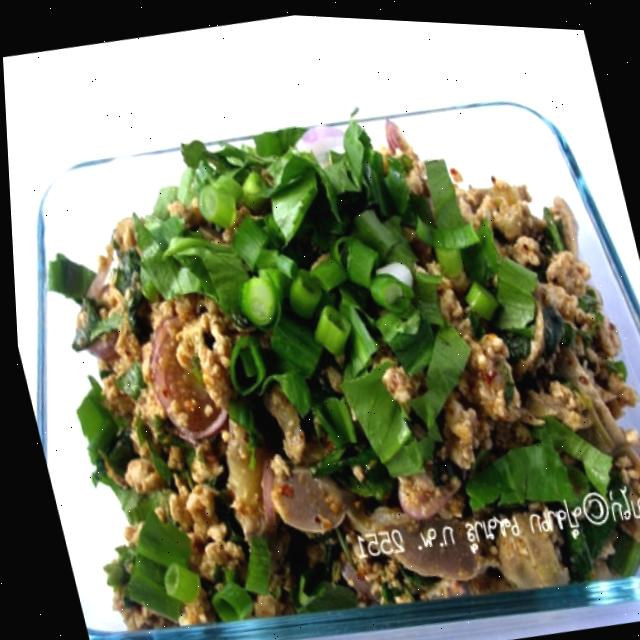鸡肉料理 含炸鸡: (1, 14, 640, 640)
